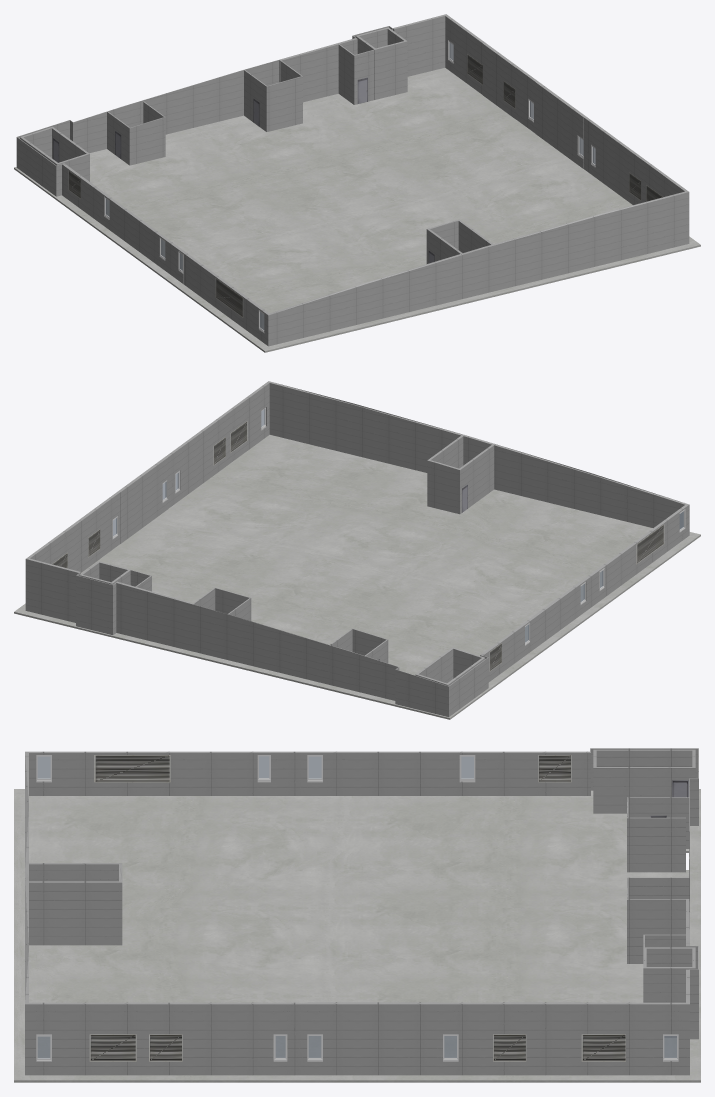
3 renders of one model, top to bottom at view 1: azimuth 30°, elevation 25°; view 2: azimuth 150°, elevation 25°; view 3: azimuth 270°, elevation 25°, orthographic. The views are drawn at different scales.
Parts seen in each view (by area): view 1: Line146, Box578, Box2232, Rectangle1218, Box2083; view 2: Line146, Box578, Box2232, Rectangle1218; view 3: Line146, Box578, Box2232, Rectangle1218.
Boxes of the visible parts, left/top/right/bottom form: Line146: left=14, top=68, right=700, bottom=352; Box578: left=16, top=14, right=689, bottom=346; Box2232: left=68, top=54, right=662, bottom=317; Rectangle1218: left=104, top=40, right=595, bottom=332; Box2083: left=53, top=77, right=434, bottom=263; Line146: left=14, top=435, right=700, bottom=719; Box578: left=25, top=381, right=689, bottom=716; Box2232: left=52, top=421, right=664, bottom=671; Rectangle1218: left=112, top=408, right=685, bottom=645; Line146: left=14, top=789, right=700, bottom=1082; Box578: left=25, top=748, right=698, bottom=1075; Box2232: left=89, top=755, right=625, bottom=1061; Rectangle1218: left=36, top=755, right=678, bottom=1061.
Size of the model in its own units: 41.17 by 4.83 by 41.05.
Materials: 6 (4 with a texture image).
